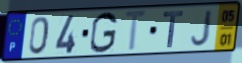0: (28, 15, 52, 56)
4: (54, 13, 79, 56)
G: (88, 11, 119, 55)
J: (189, 9, 214, 48)
T: (122, 9, 150, 54), (162, 10, 184, 49)
